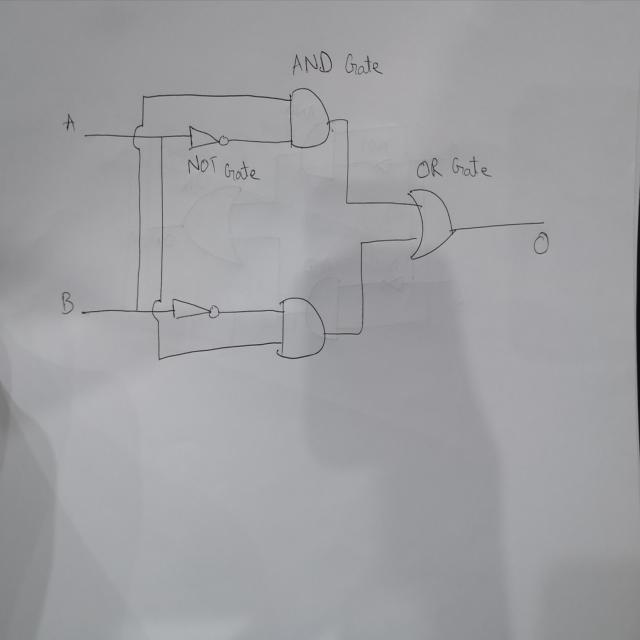crossover: (132, 122, 145, 152), (150, 298, 163, 322)
junction: (354, 323, 364, 339), (358, 237, 366, 248), (139, 91, 147, 102), (342, 196, 350, 206), (133, 304, 139, 316), (158, 132, 165, 142), (156, 354, 163, 364), (343, 115, 350, 125)
terminal: (81, 129, 92, 141), (79, 305, 86, 318), (538, 217, 546, 226)
text: (290, 48, 382, 78), (186, 152, 262, 180), (414, 154, 491, 180), (58, 288, 76, 317), (532, 229, 550, 255), (61, 110, 76, 134)
